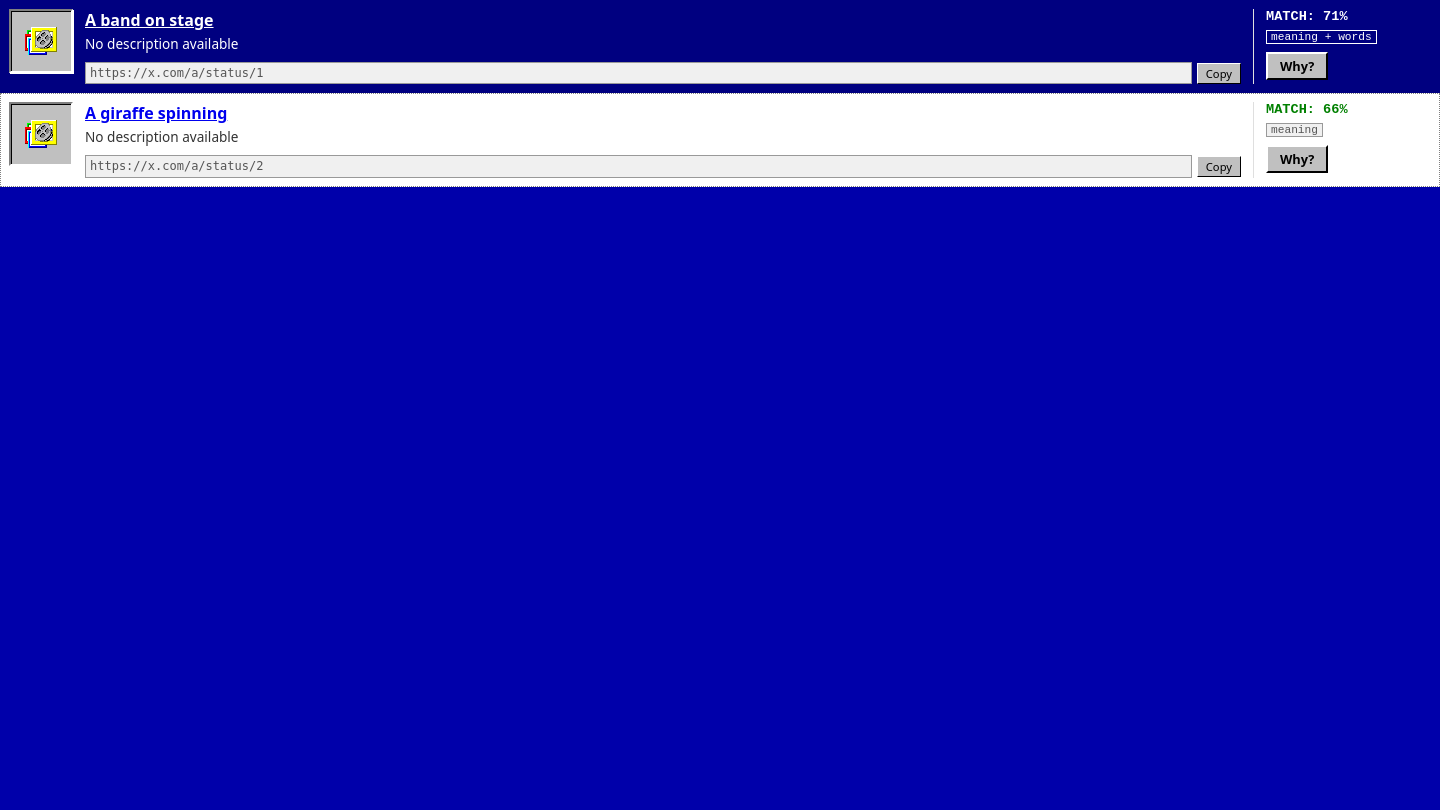
Scenario: the results of a search › should explain one result at a time
The image size is (1440, 810).
Click the button "Why?" below "meaning + words": (1297, 66) [1266,52,1328,80]
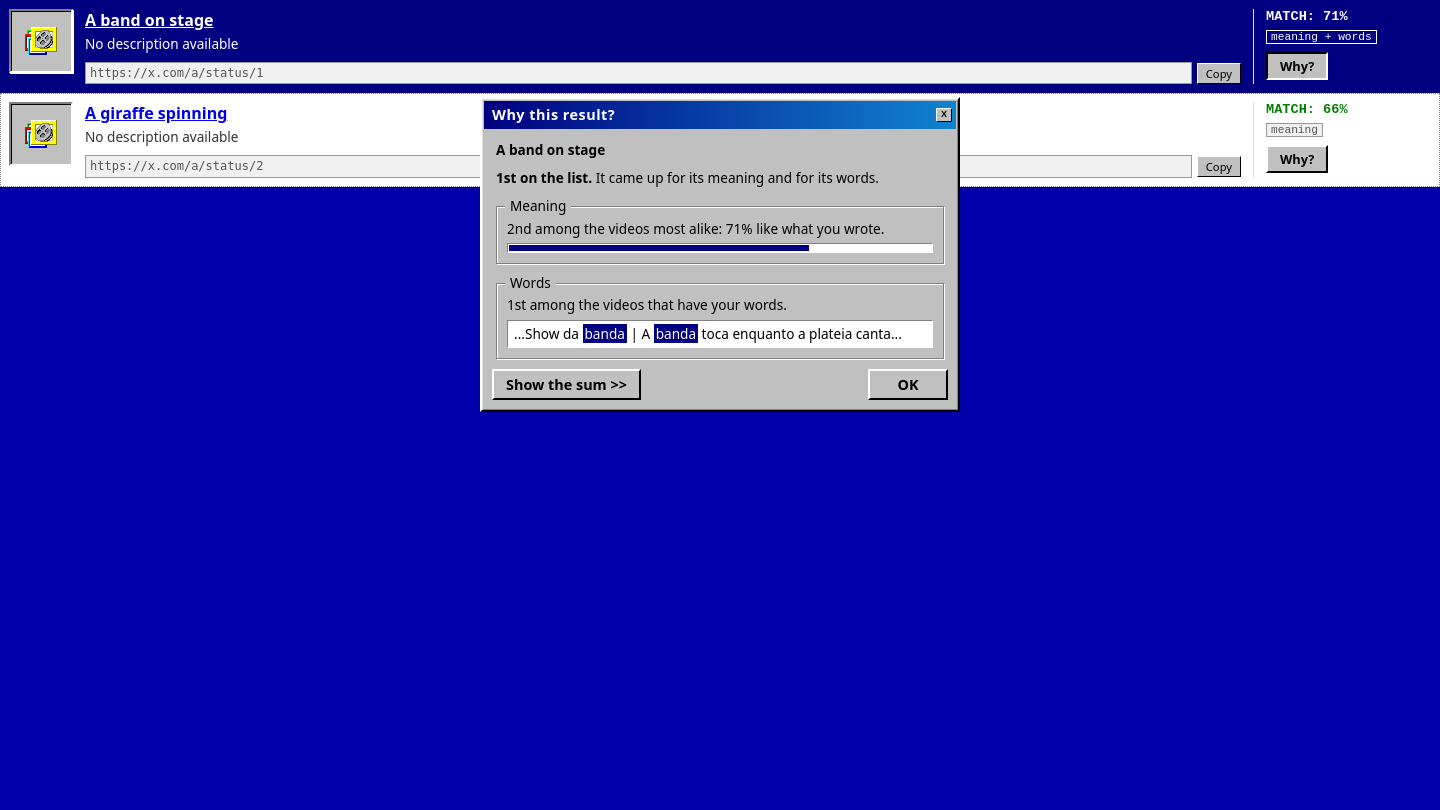
Click the button "Why?" below "MATCH: 66%": (1297, 160) [1266,146,1328,174]
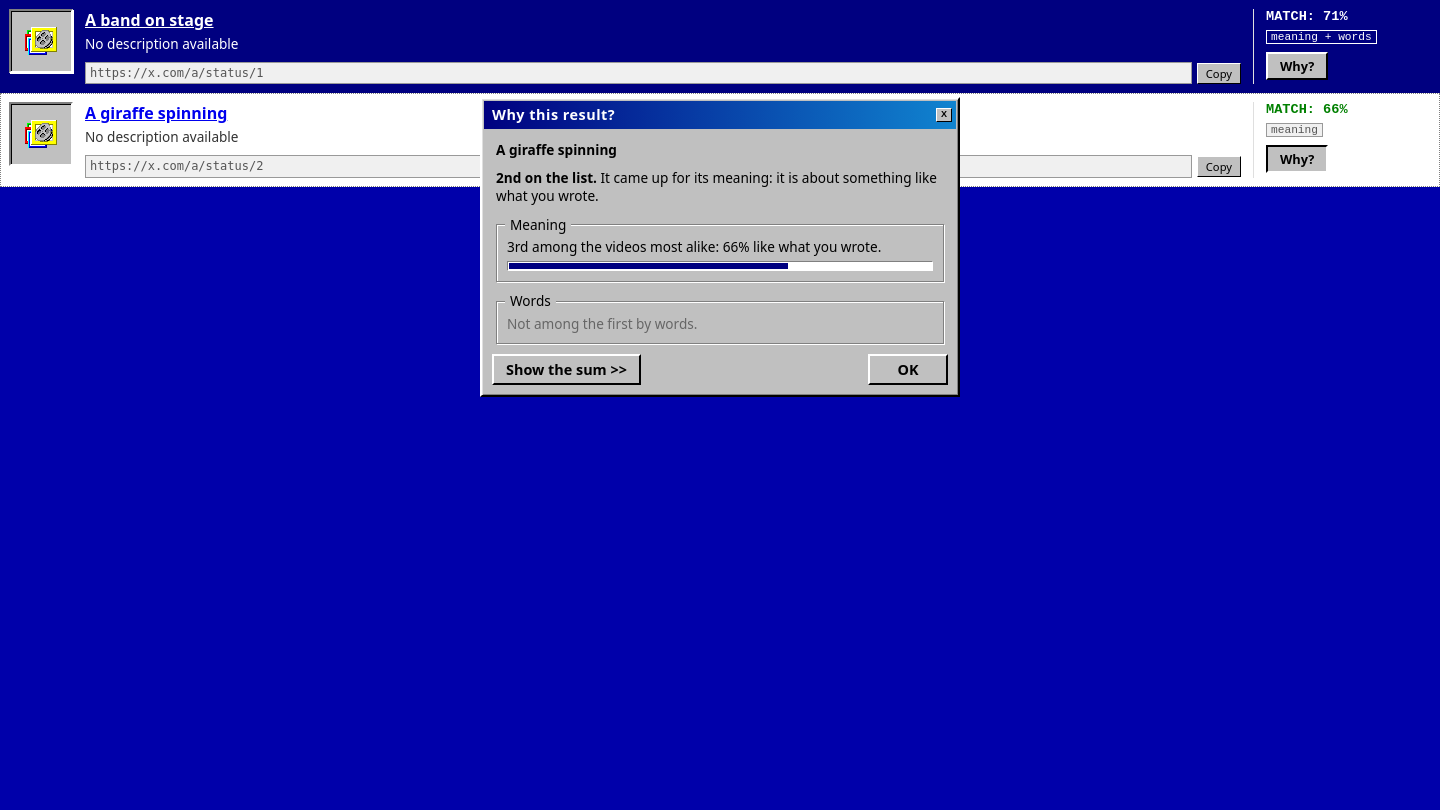
Now the number of dialogs is 1, box [480,97,960,397]
Now the dialog "Why this result?" shows "A giraffe spinning", box [496,140,617,159]
